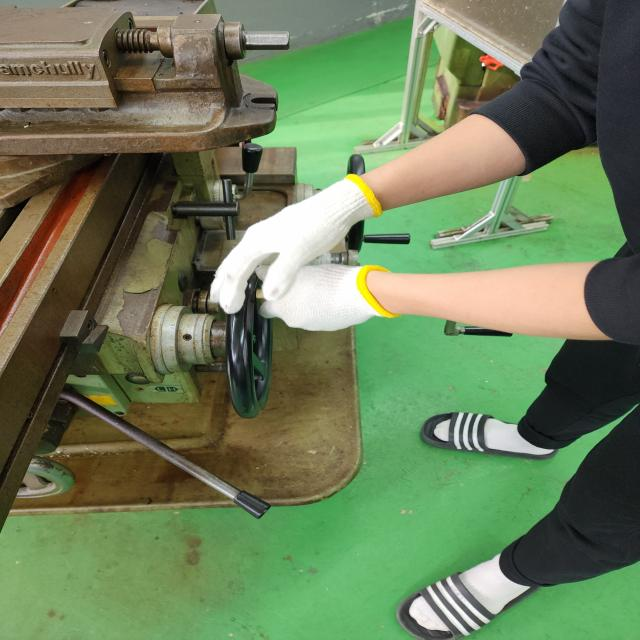Boots: (238, 174, 378, 259), (260, 262, 395, 330)
